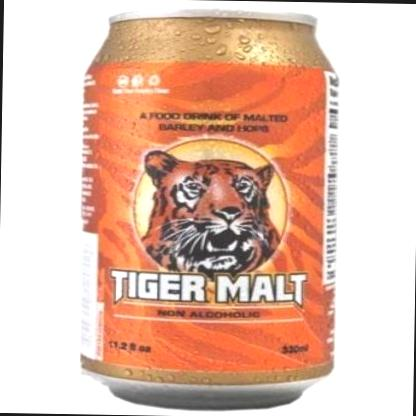alumunium_can: (71, 0, 346, 414)
